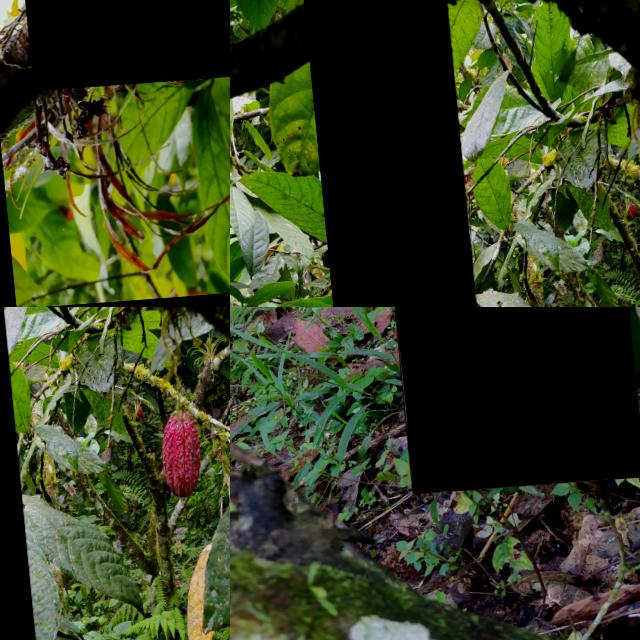Fitoftora: (301, 0, 486, 307), (377, 307, 635, 498)
Monilia: (0, 0, 230, 91)
Sana: (151, 415, 196, 508)
